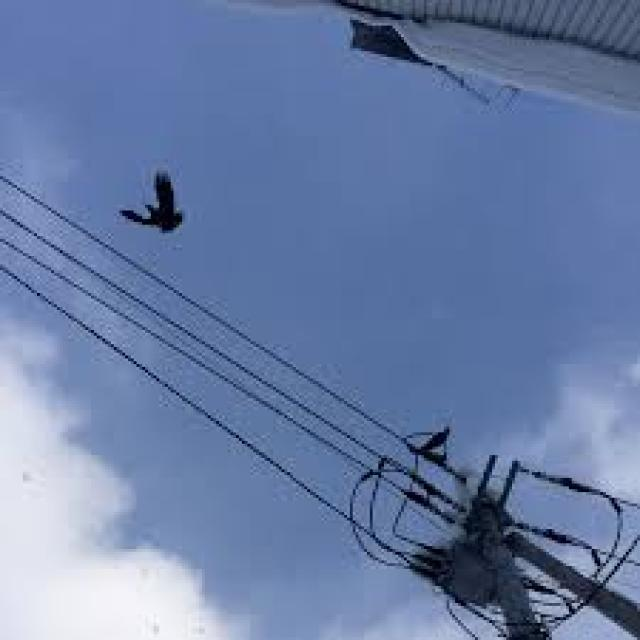bird: (109, 161, 191, 257)
